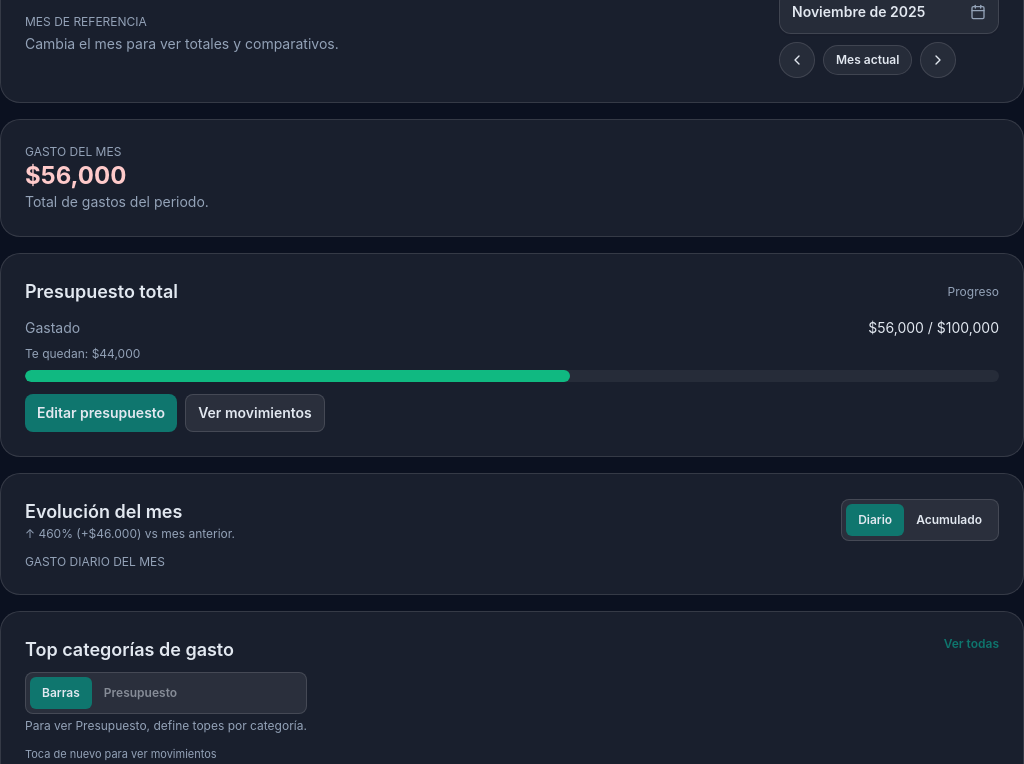
Test: MetricsPage › closes the categories modal with Escape
(page scrolled)
Click the button "Ver todas" at [971, 644], box 944,636 -> 999,652
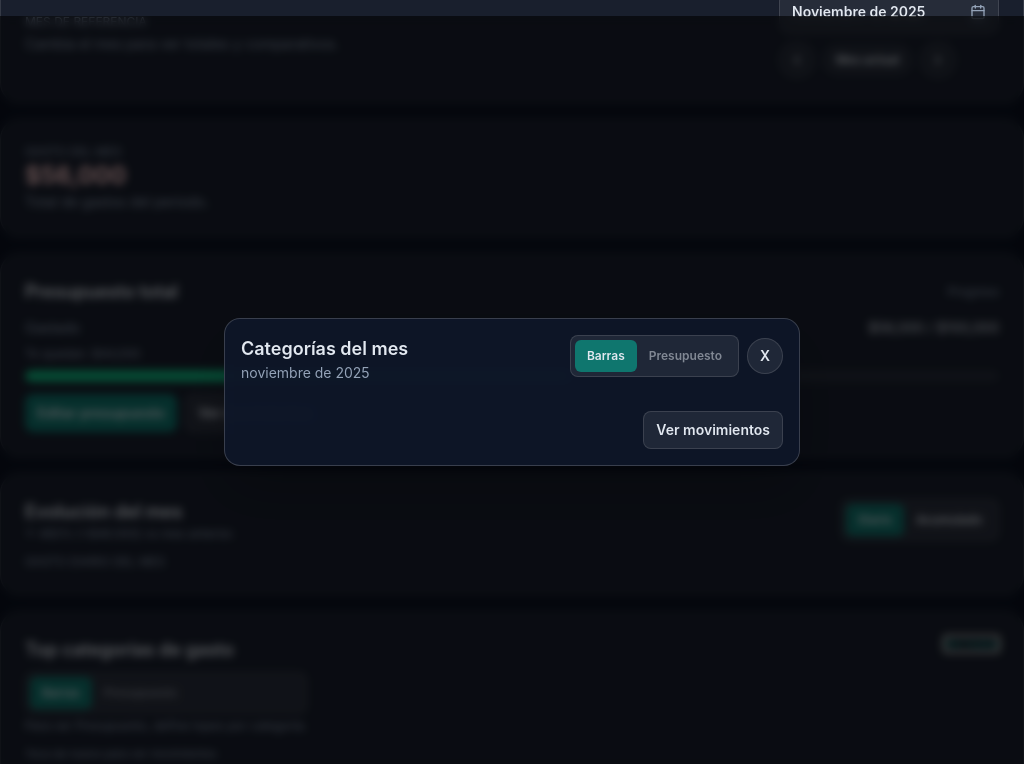
Now the heading "Categorías del mes" is shown, box 241,335 -> 408,363
Press Escape
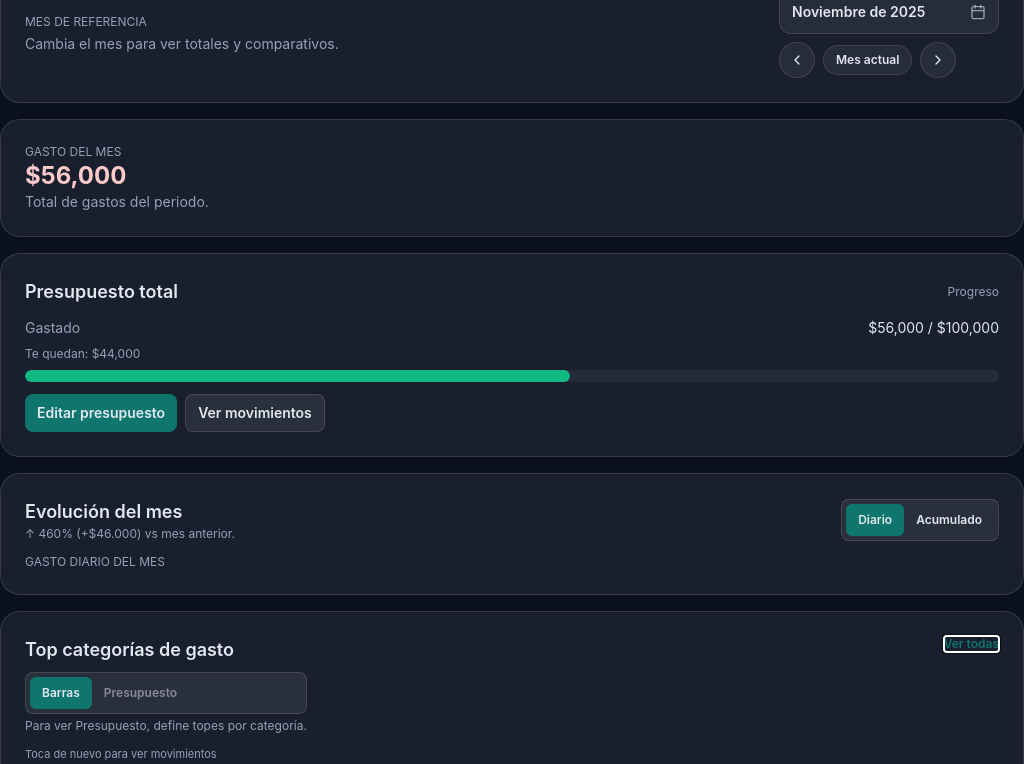
Now the heading "Categorías del mes" is gone
